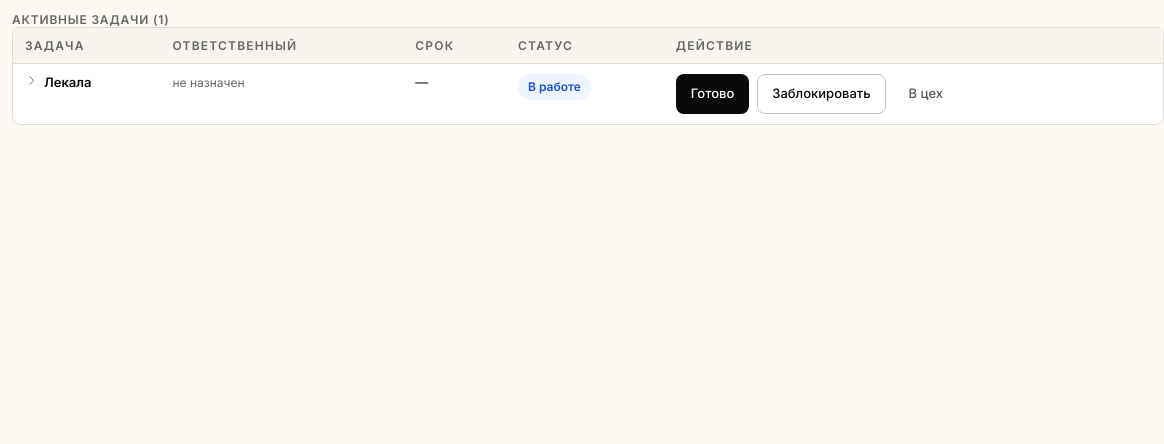
Test case: файл у задачи (п. 4.4) › в раскрытой задаче есть, куда приложить файл
The image size is (1164, 444).
Click the text "Лекала".
click(68, 82)  # box x1=44 y1=74 x2=92 y2=90
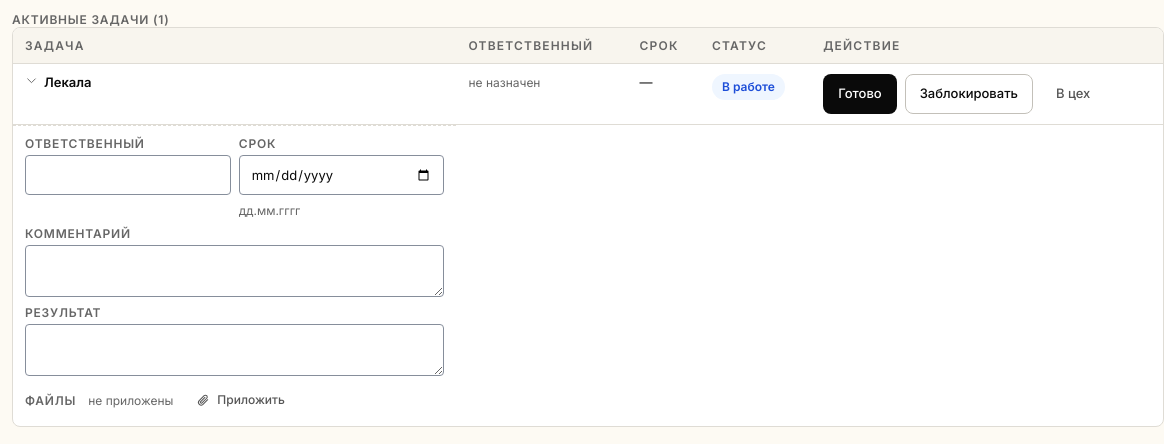
Check: the element named "Файл к задаче «Лекала»" is shown, box x1=25 y1=384 x2=296 y2=416
